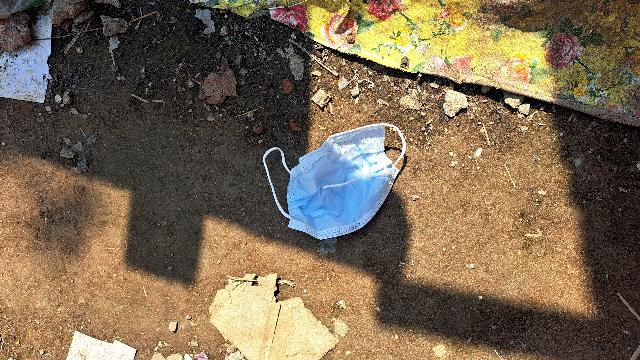mask: (284, 124, 396, 230)
